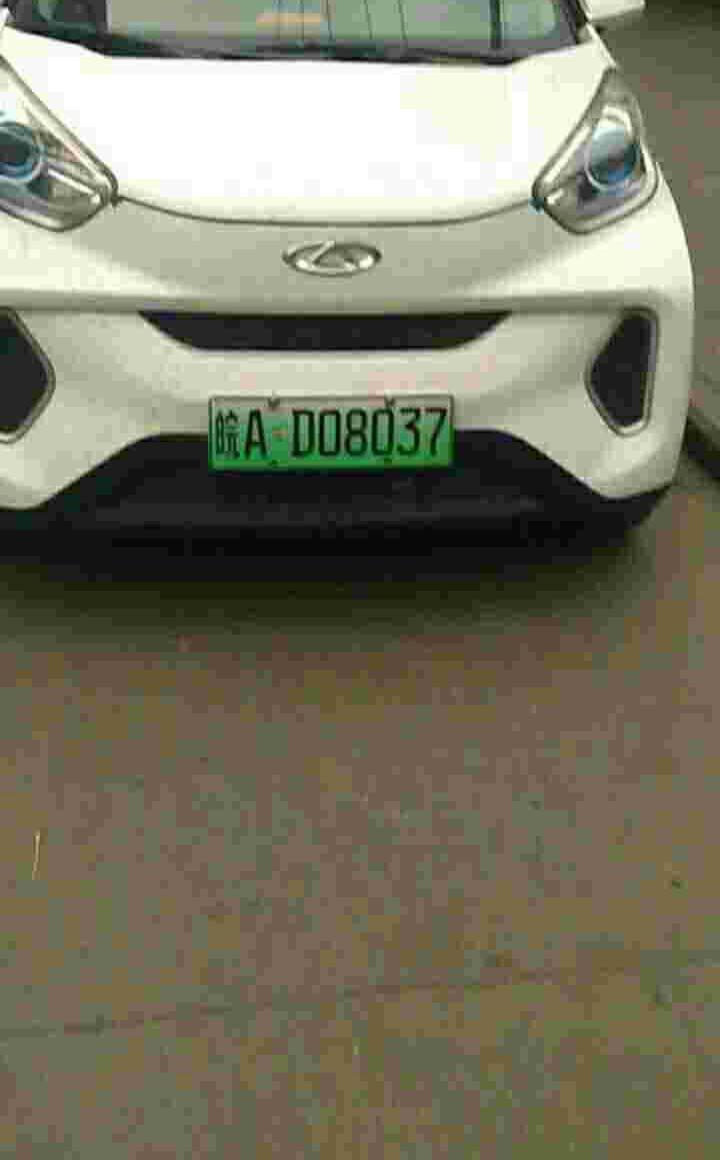car_id: (204, 393, 453, 466)
